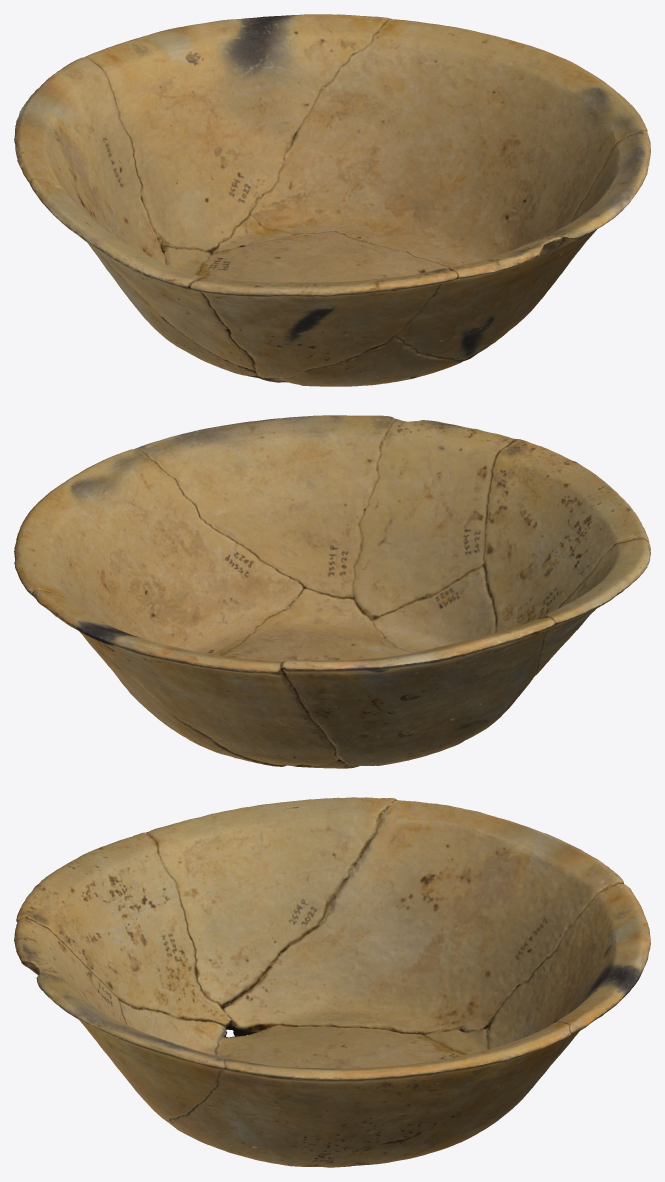
File: obj_catawba_earthenware_bowl_255_da0ddb.glb
3 renders of one model, top to bottom at view 1: azimuth 30°, elevation 25°; view 2: azimuth 150°, elevation 25°; view 3: azimuth 270°, elevation 25°, orthographic. The views are drawn at different scales.
Visible parts, largest first — view 1: obj_catawba_earthenware_bowl_255_da0ddb; view 2: obj_catawba_earthenware_bowl_255_da0ddb; view 3: obj_catawba_earthenware_bowl_255_da0ddb.
Boxes of the visible parts, x1,y1,x2,y2 form: obj_catawba_earthenware_bowl_255_da0ddb: (14, 14, 650, 386); obj_catawba_earthenware_bowl_255_da0ddb: (14, 415, 650, 768); obj_catawba_earthenware_bowl_255_da0ddb: (14, 797, 650, 1167).
Size of the model in its own units: 0.1992 by 0.0618 by 0.2.
1 material, 1 textured.
